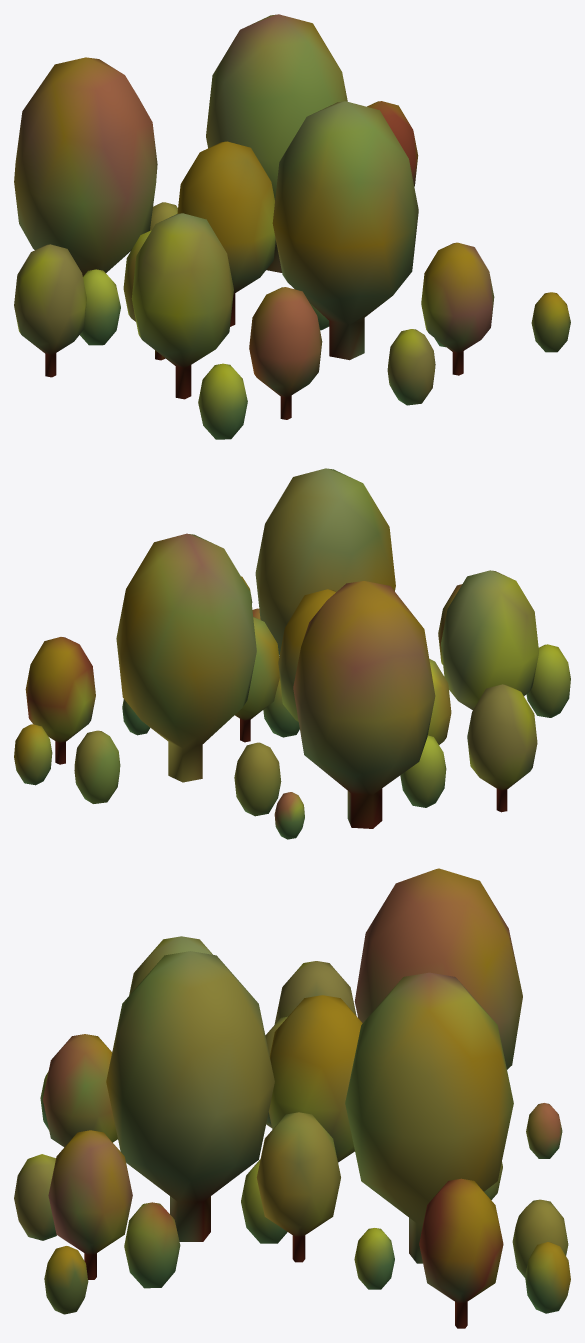
File: SM_Forest_1.glb
The picture shows the model from 3 angles, top to bottom: view 1: azimuth 30°, elevation 25°; view 2: azimuth 150°, elevation 25°; view 3: azimuth 270°, elevation 25°; orthographic projection. The views are drawn at different scales.
Parts seen in each view (by area): view 1: SM_Forest_1; view 2: SM_Forest_1; view 3: SM_Forest_1.
Part boxes in pixels (<box>): SM_Forest_1: <box>14,14,570,439</box>; SM_Forest_1: <box>14,468,570,839</box>; SM_Forest_1: <box>14,868,570,1328</box>.
Bounding box in the file's own units: 7.06 × 3.78 × 6.6.
